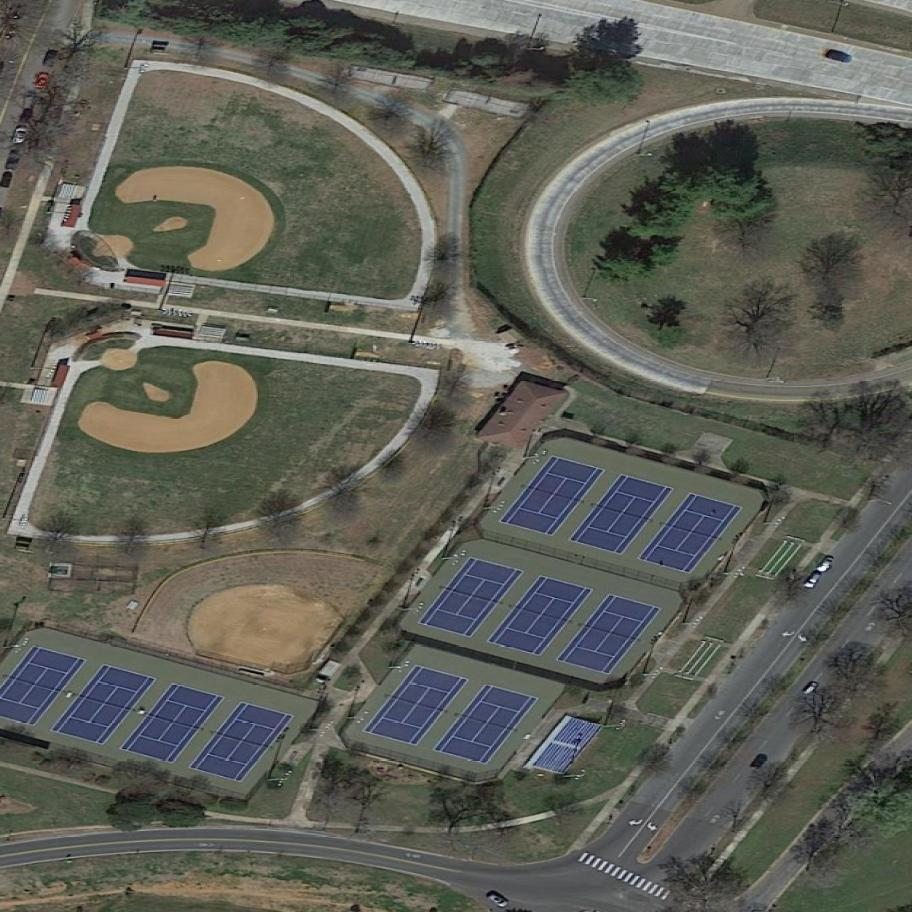small-vehicle: (484, 889, 513, 912), (814, 552, 838, 578), (747, 751, 771, 776), (801, 568, 825, 593), (17, 104, 39, 129), (4, 149, 25, 175), (826, 49, 857, 65), (42, 48, 63, 71), (801, 677, 822, 700), (12, 124, 31, 148), (34, 71, 51, 90)
